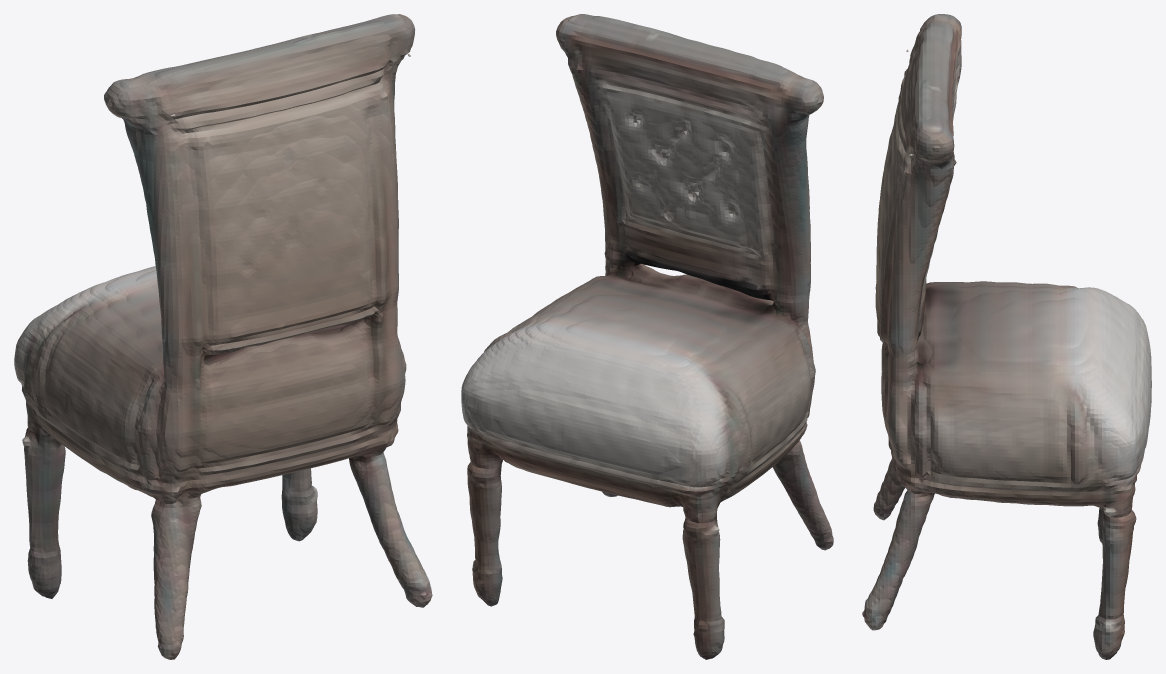
File: Chair.glb
The picture shows the model from 3 angles, left to right: view 1: azimuth 30°, elevation 25°; view 2: azimuth 150°, elevation 25°; view 3: azimuth 270°, elevation 25°; orthographic projection. The views are drawn at different scales.
Visible parts, largest first — view 1: world; view 2: world; view 3: world.
Boxes of the visible parts, x1,y1,x2,y2 form: world: (14, 14, 432, 659); world: (461, 14, 833, 659); world: (862, 14, 1151, 659).
Size of the model in its own units: 0.5687 by 1.03 by 0.5072.
